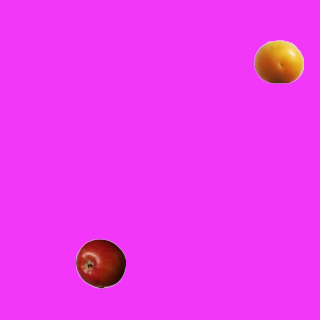Apple Braeburn: (75, 238, 125, 288)
Cherry Wax Yellow: (253, 36, 303, 86)
